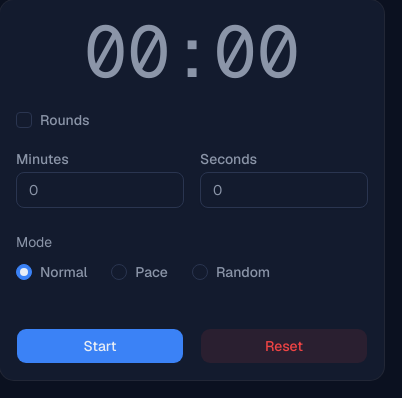
Test case: Timer › 3.1 formats the countdown as zero-padded mm:ss
Step 1. Type "2" into the number field labelled "Minutes" → (100, 190), box [16,172,184,208]
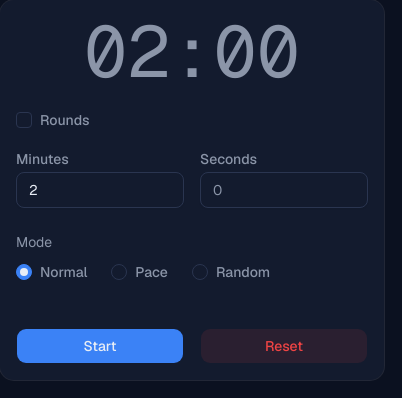
Step 2. Type "5" into the number field labelled "Seconds" → (284, 190), box [200,172,368,208]
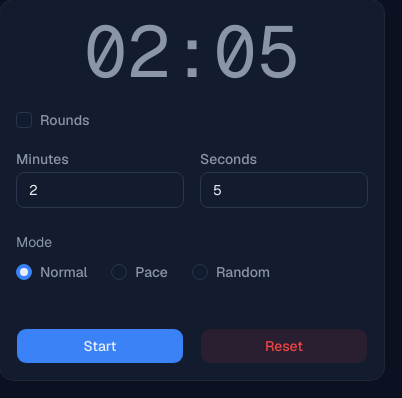
Expected: the text "02:05" is shown, [84,16,300,88]
Step 3. Replace the text in the number field labelled "Minutes" with "0" → (100, 190), box [16,172,184,208]
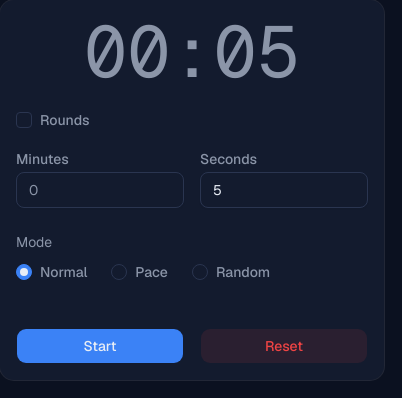
Step 4. Replace the text in the number field labelled "Seconds" with "9" → (284, 190), box [200,172,368,208]
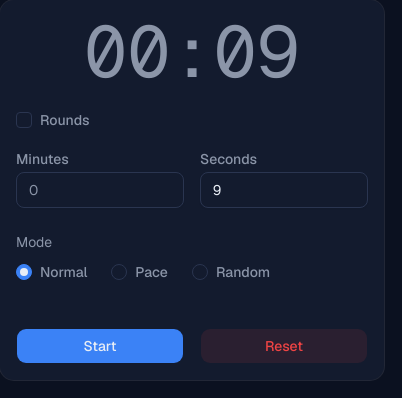
Expected: the text "00:09" is shown, [84,16,300,88]
